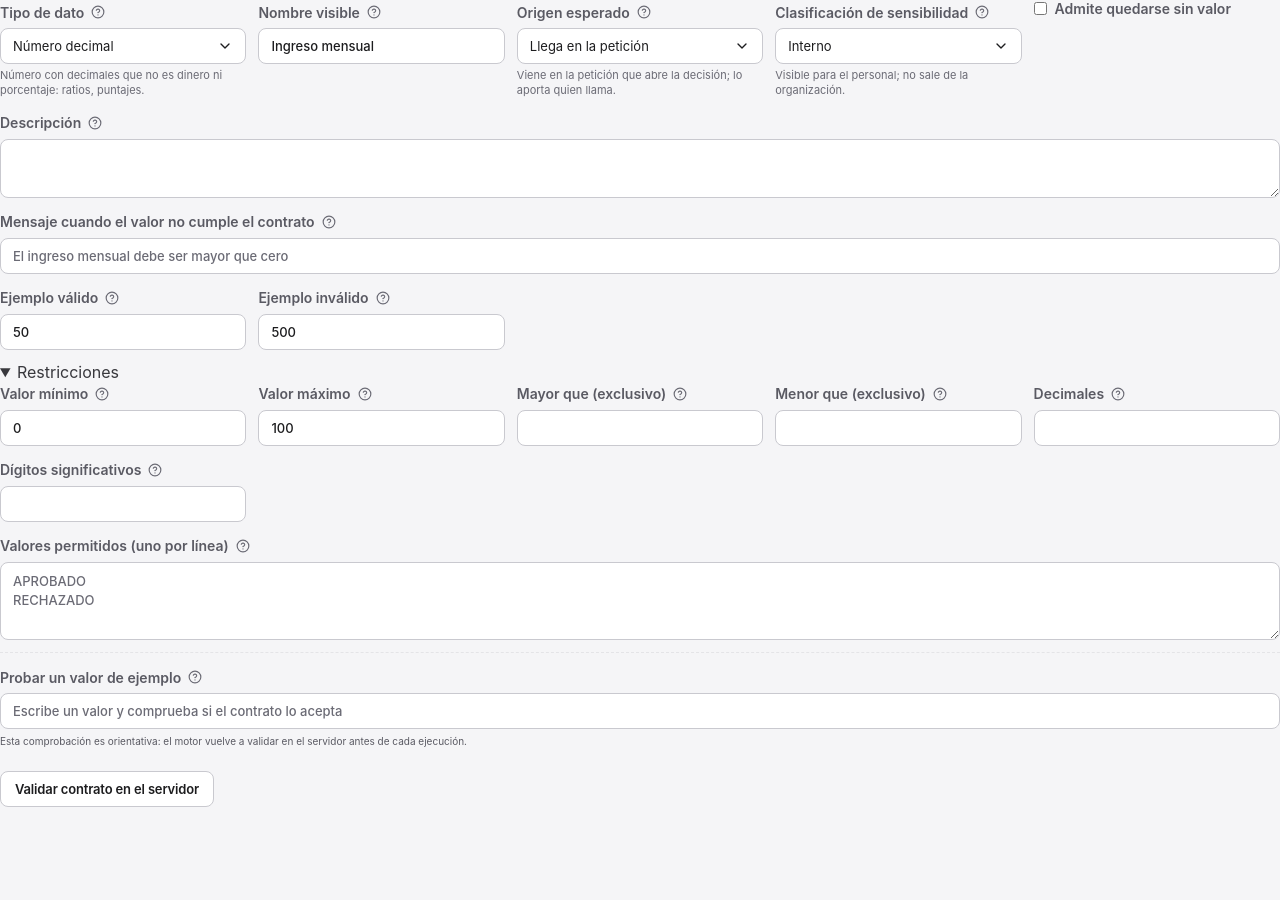
Test case: VariableContractEditor › avisa de un cambio incompatible sobre una variable existente
This screenshot has width=1280, height=900.
Click the button "Validar contrato en el servidor" at (107, 789), box [0,771,214,807]
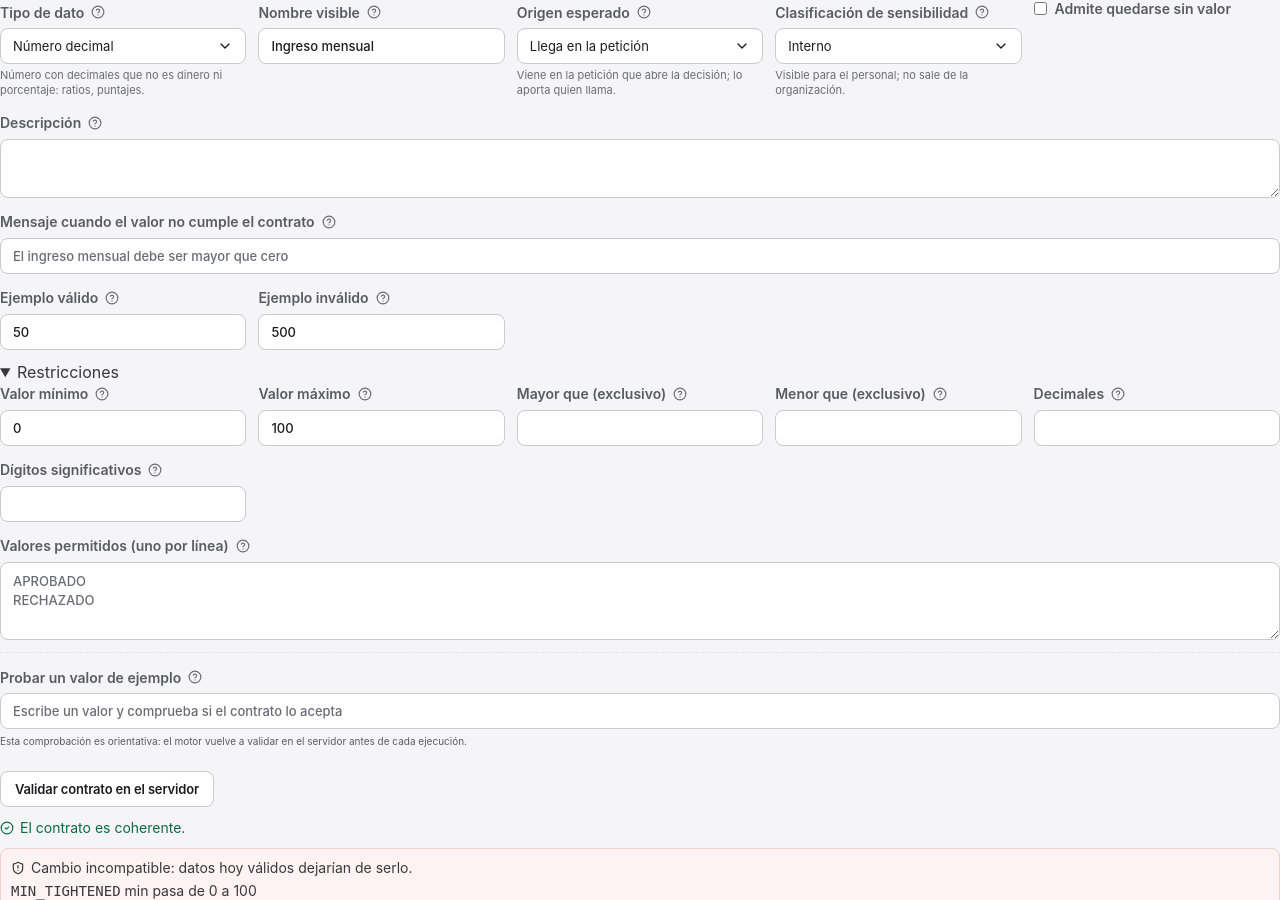
Result: the text "Cambio incompatible: datos hoy válidos dejarían de serlo." is shown at [11,859,412,876]
Result: the list item "MIN_TIGHTENED min pasa de 0 a 100" is shown at [11,882,257,899]
